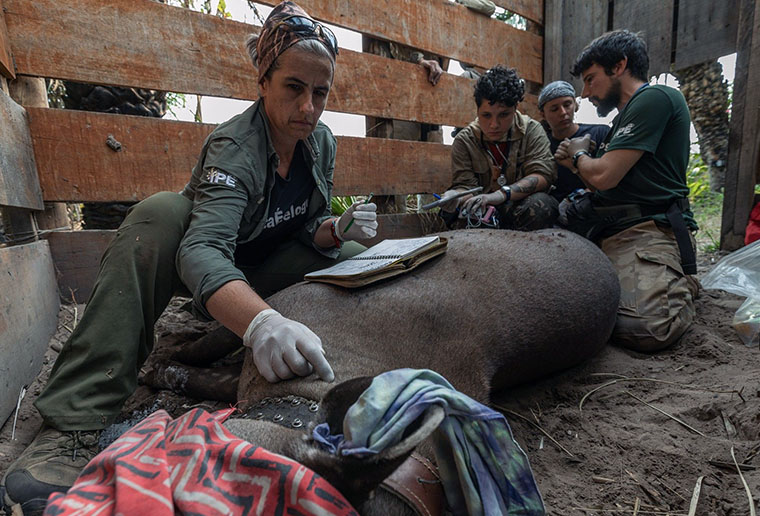Anta: (245, 223, 630, 486)
